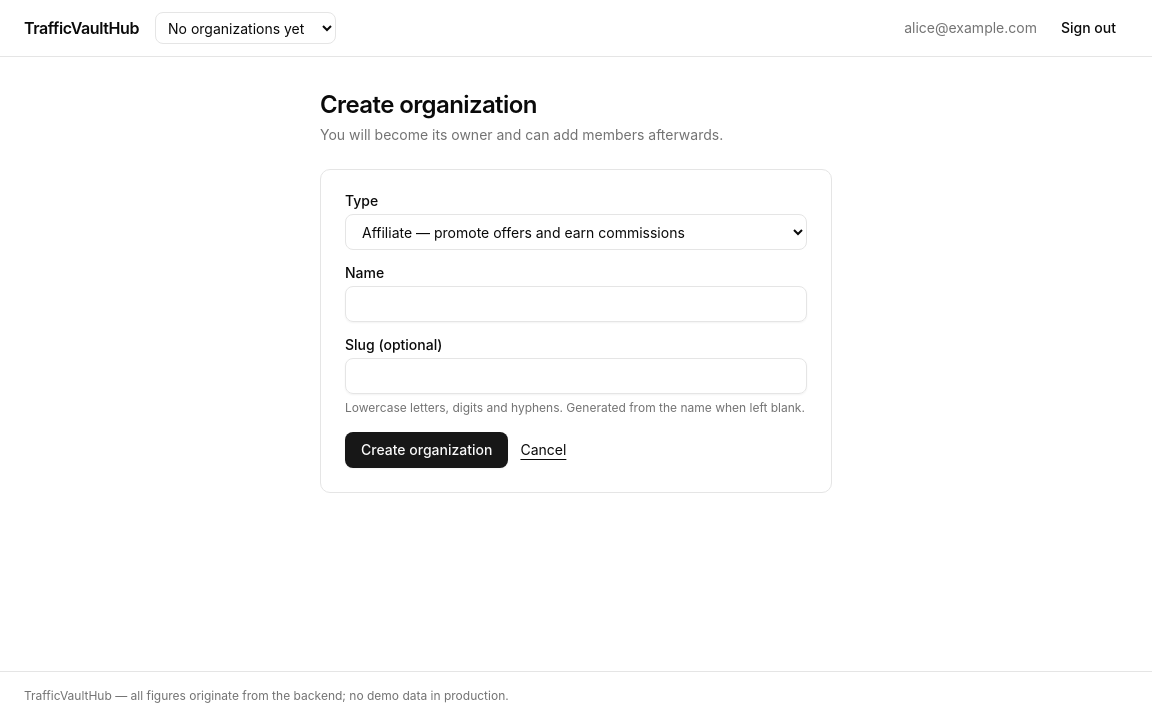
Scenario: authenticated area › /app/organizations/new › surfaces a server conflict without navigating
The width and height of the screenshot is (1152, 720).
Type "Acme Affiliates" into the field labelled "Name" at x=576, y=304, box [345,286,807,322]
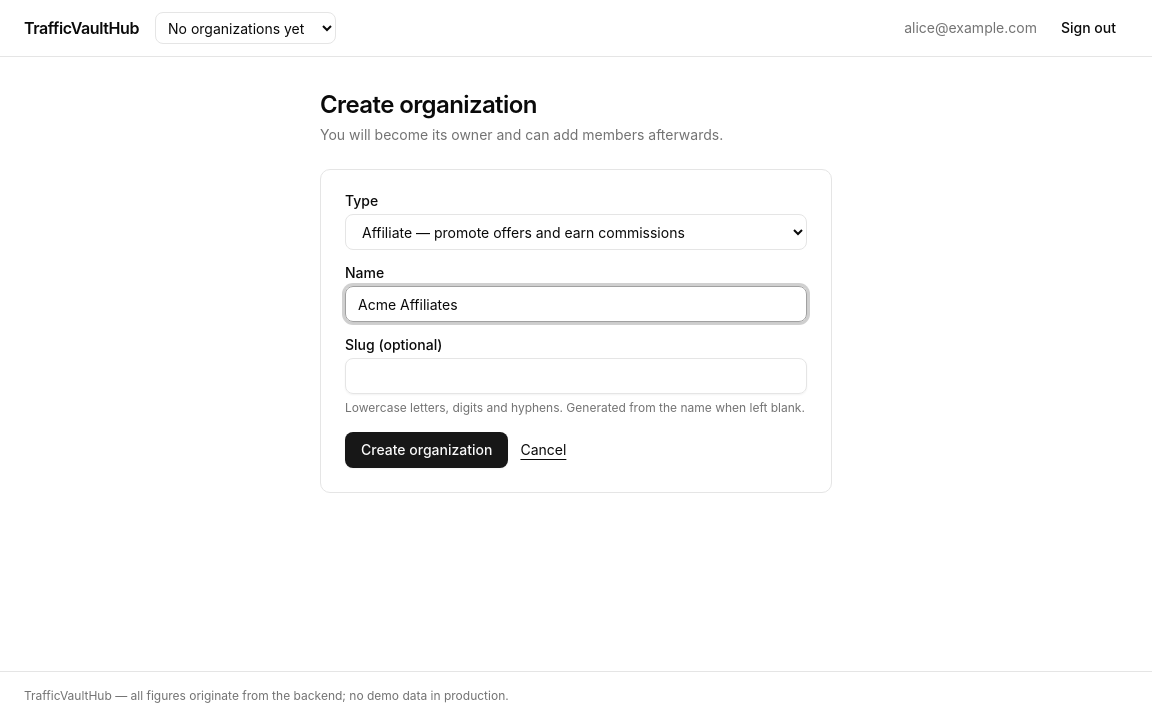
Type "acme-affiliates" into the field labelled "Slug (optional)" at x=576, y=376, box [345,358,807,394]
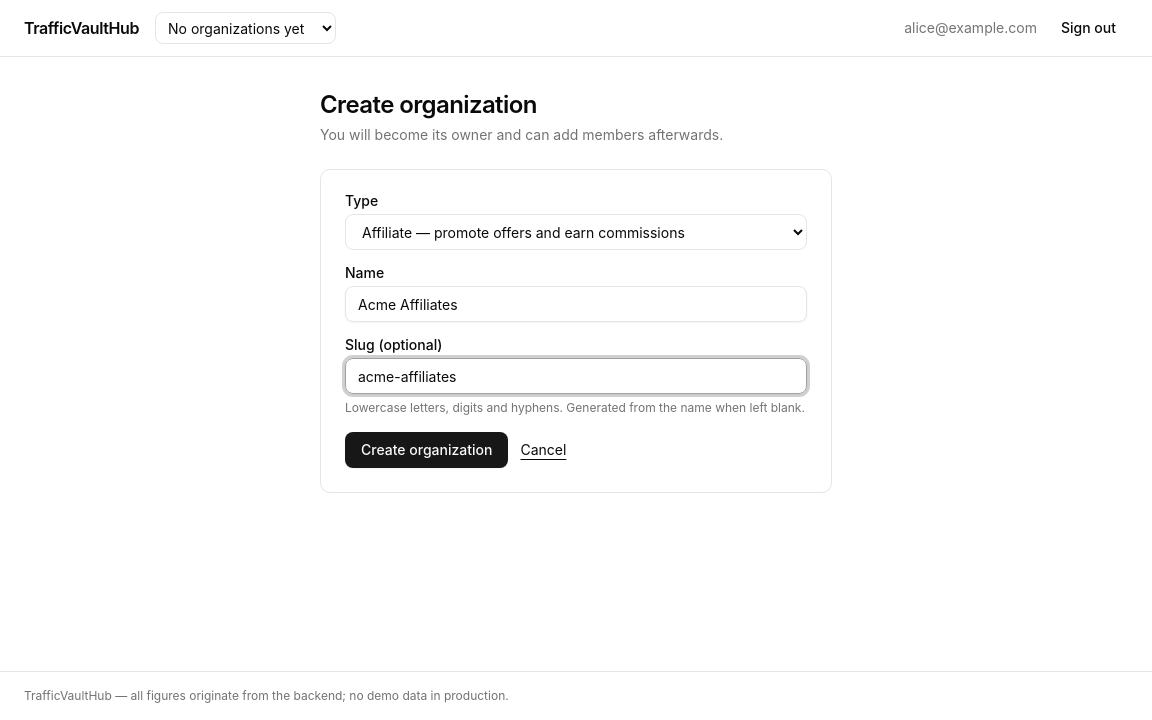
Click the button "Create organization" at x=427, y=450, box [345,432,508,468]
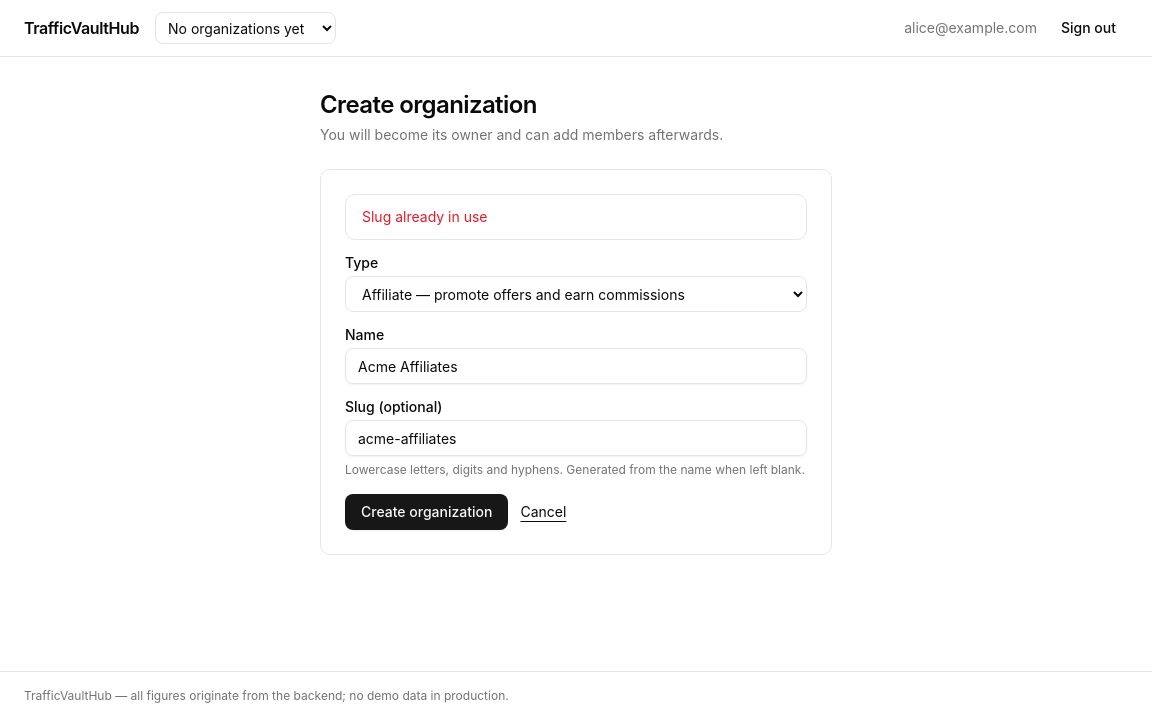
Check: the message reads "Slug already in use", box [362,208,488,225]
